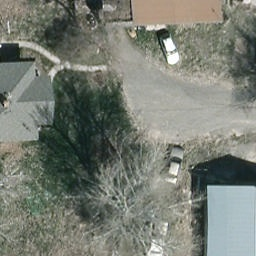car: (163, 144, 185, 184), (156, 31, 181, 66)
